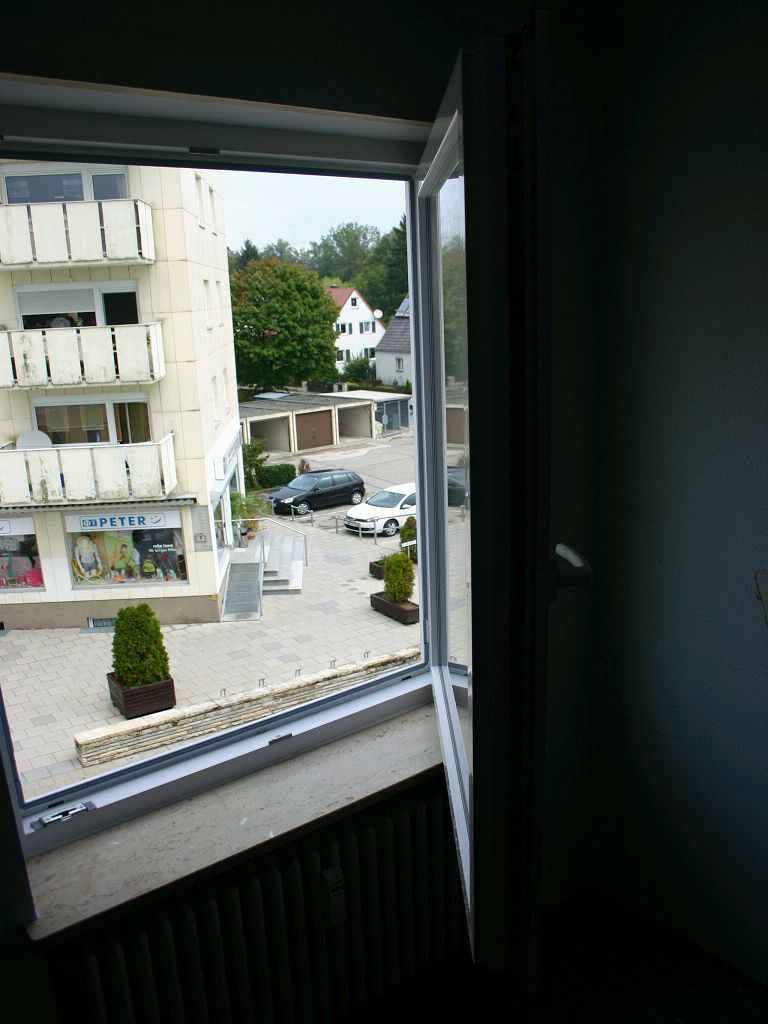windows: (1, 74, 507, 784)
